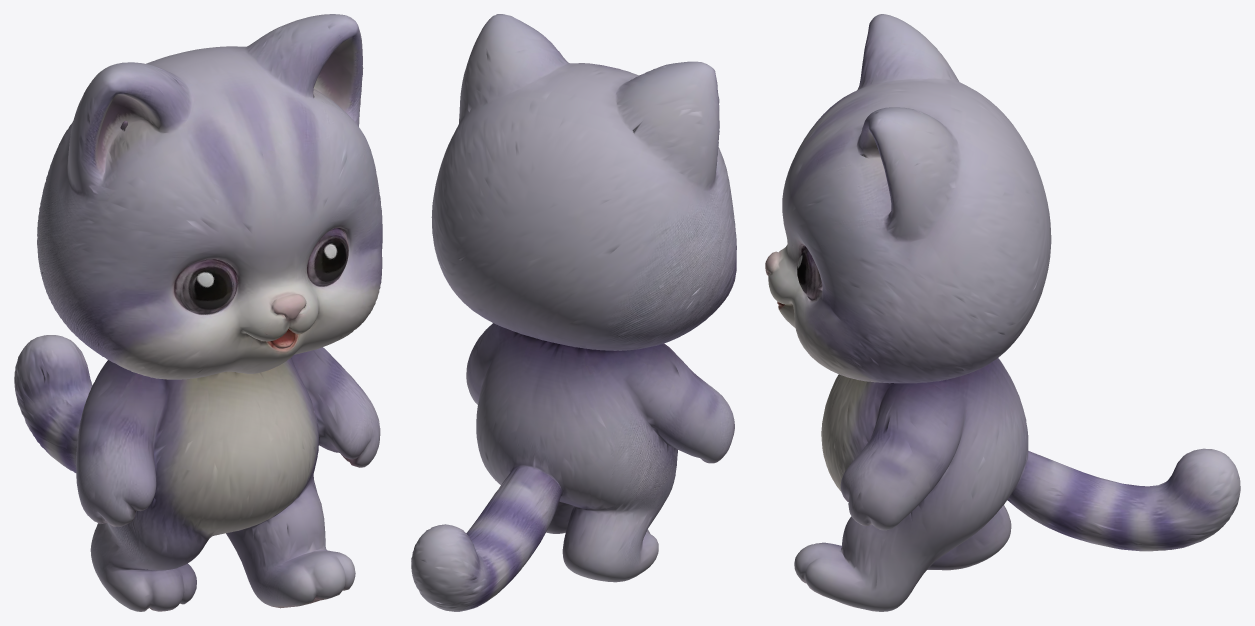
Rendered from cat_walk_1.glb.
The picture shows the model from 3 angles, left to right: view 1: azimuth 30°, elevation 25°; view 2: azimuth 150°, elevation 25°; view 3: azimuth 270°, elevation 25°; orthographic projection. The views are drawn at different scales.
Visible parts, largest first — view 1: node_0; view 2: node_0; view 3: node_0.
Part boxes in pixels (left/top/right/bottom): node_0: left=14, top=14, right=382, bottom=611; node_0: left=411, top=14, right=736, bottom=611; node_0: left=765, top=14, right=1240, bottom=611.
Bounding box in the file's own units: 0.5839 × 1.03 × 0.8535.
1 material, 1 textured.
